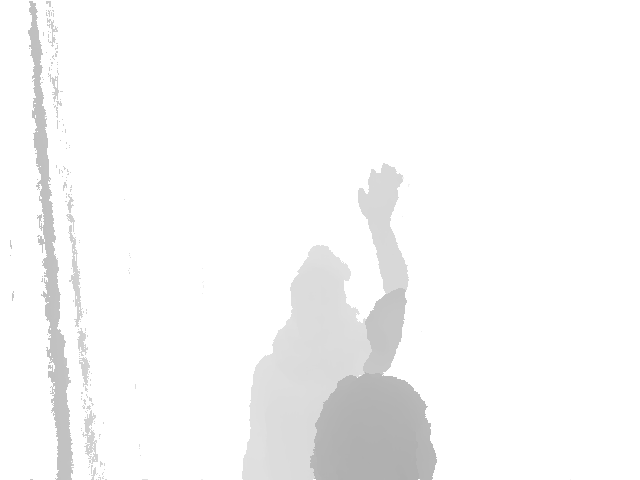hand: (357, 163, 407, 226)
head: (311, 369, 436, 480), (288, 244, 352, 321)
person: (251, 162, 416, 480)
